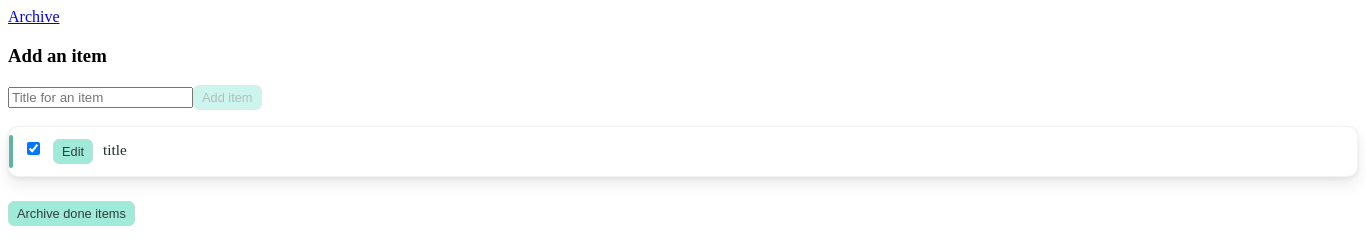
TodoPage › archive button should be disabled when waiting for a response
The width and height of the screenshot is (1366, 243).
Step 1. Click the button "Archive done items" → [71, 214], box [8,201,135,226]
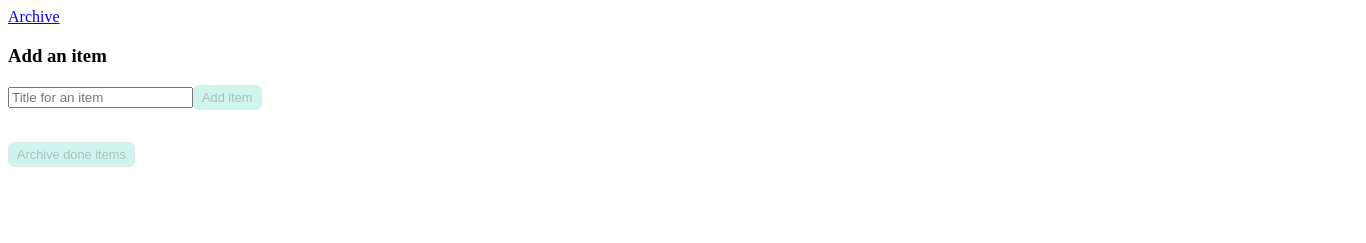
Check: the button "Archive done items" is disabled, box [8,142,135,167]
